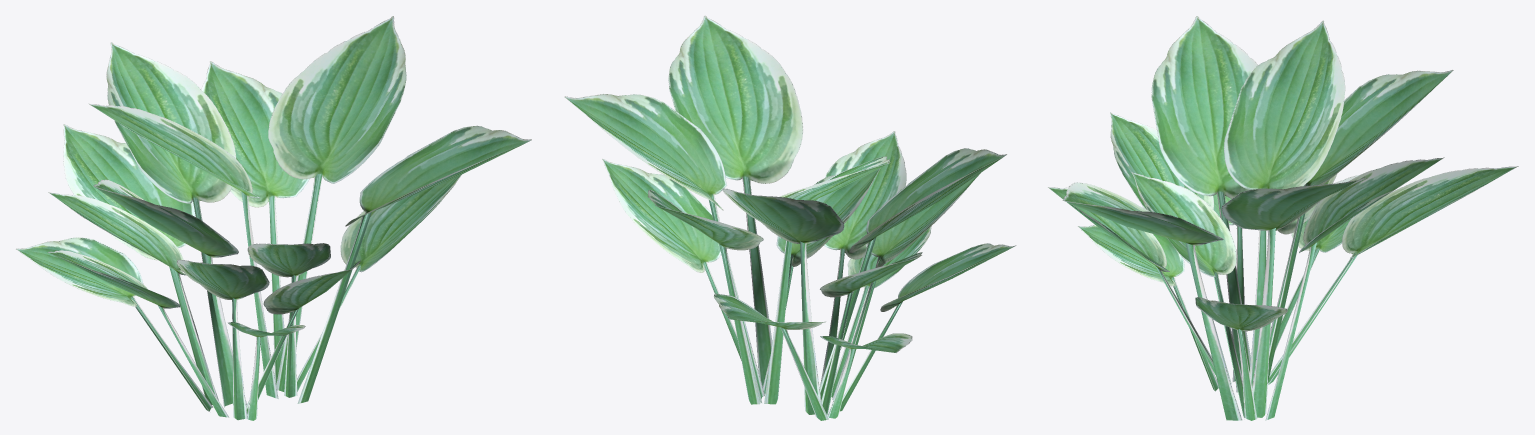
The model's file is plant_small_wg_03I.fbx.
The picture shows the model from 3 angles, left to right: view 1: azimuth 30°, elevation 25°; view 2: azimuth 150°, elevation 25°; view 3: azimuth 270°, elevation 25°; orthographic projection. The views are drawn at different scales.
Visible parts, largest first — view 1: plant_small_wg_03I; view 2: plant_small_wg_03I; view 3: plant_small_wg_03I.
Part boxes in pixels (x1=…): plant_small_wg_03I: x1=16, y1=16, x2=531, y2=420; plant_small_wg_03I: x1=564, y1=15, x2=1016, y2=420; plant_small_wg_03I: x1=1048, y1=16, x2=1518, y2=420.
Size of the model in its own units: 85.26 by 58.64 by 80.19.
